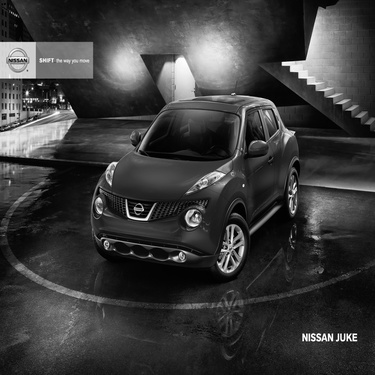car: (69, 91, 323, 272)
